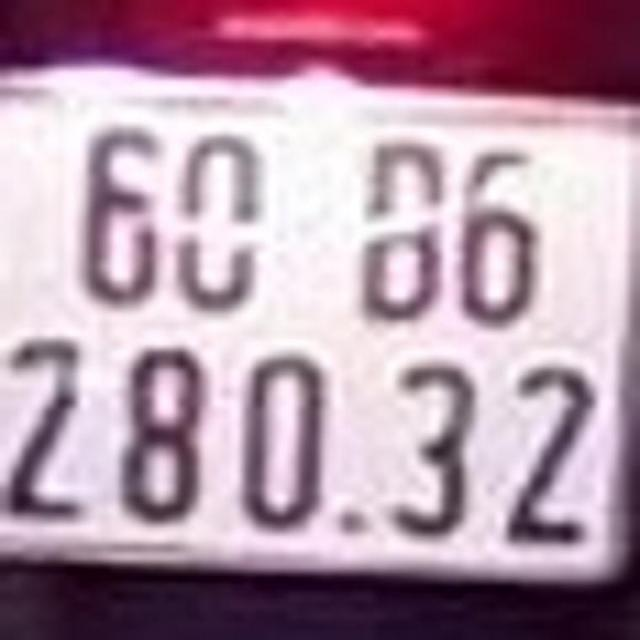0: (181, 132, 263, 308), (250, 351, 330, 531)
2: (8, 336, 87, 522), (514, 355, 588, 543)
3: (400, 356, 467, 535)
6: (82, 119, 160, 308), (467, 142, 537, 326)
8: (126, 347, 202, 519)
B: (362, 131, 450, 320)
